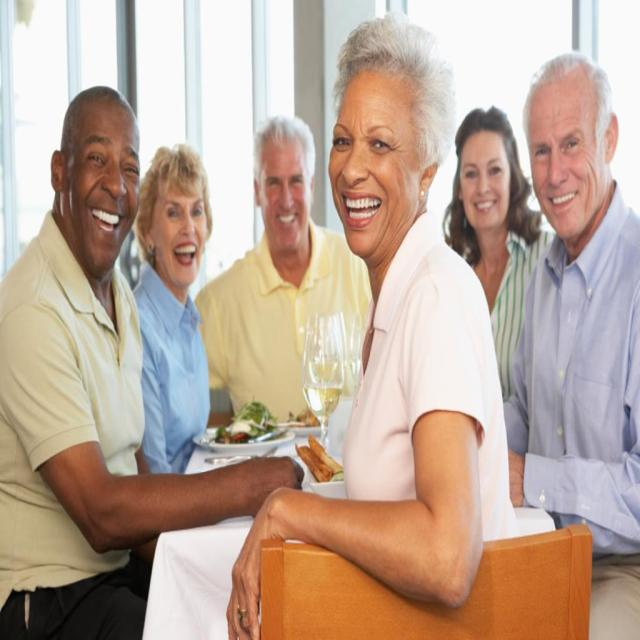Face: (327, 71, 412, 260), (59, 93, 140, 274), (529, 78, 608, 240), (147, 168, 215, 288), (257, 129, 315, 263), (461, 128, 509, 241)
